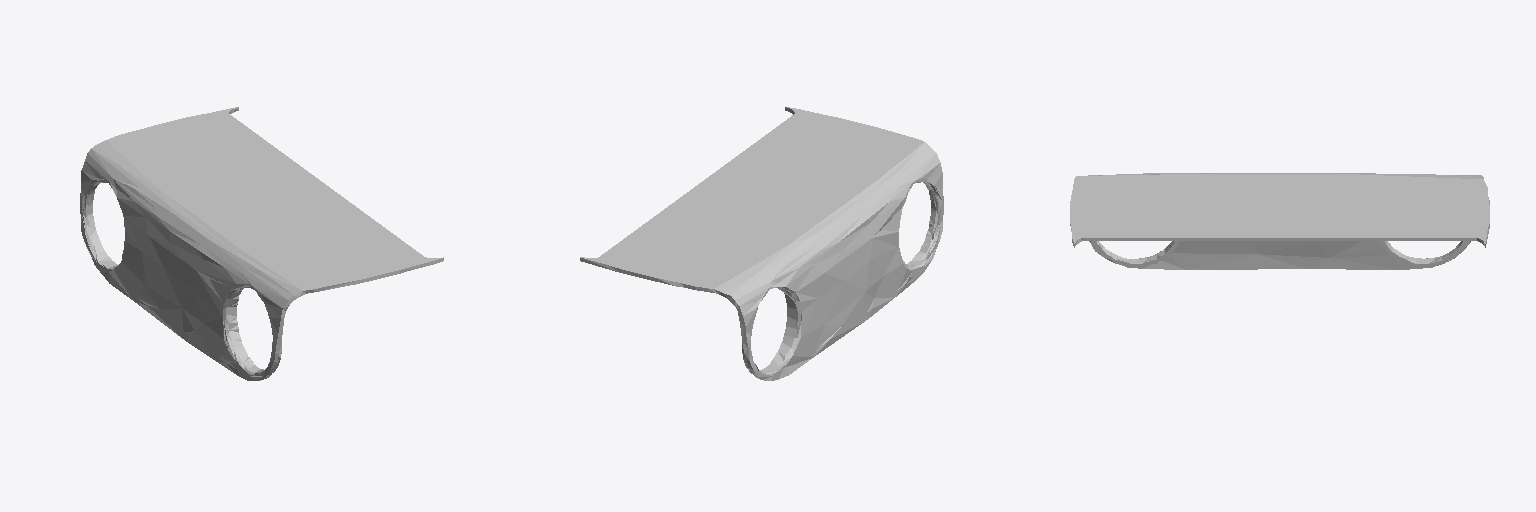
The model's file is head_upper.obj.
3 views of the same model, side by side, from view 1: azimuth 30°, elevation 25°; view 2: azimuth 150°, elevation 25°; view 3: azimuth 270°, elevation 25° (orthographic).
Size of the model in its own units: 0.096 by 0.057 by 0.204.